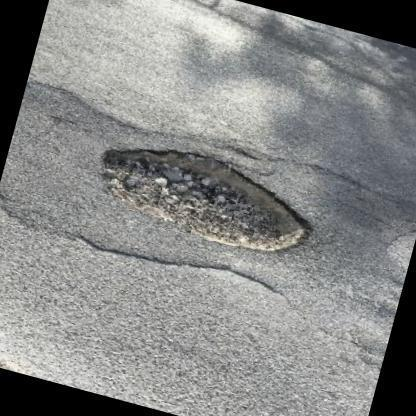pothole: (99, 144, 311, 254)
